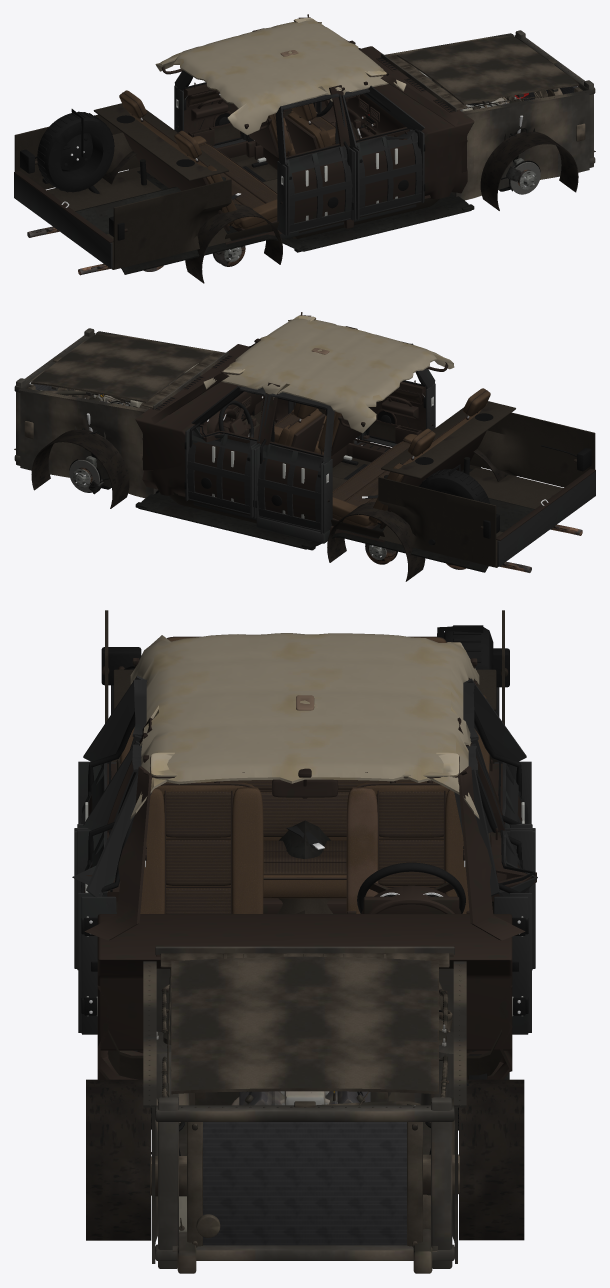
File: gaucho-v8_completo.glb
3 renders of one model, top to bottom at view 1: azimuth 30°, elevation 25°; view 2: azimuth 150°, elevation 25°; view 3: azimuth 270°, elevation 25°, orthographic. The views are drawn at different scales.
Visible parts, largest first — view 1: interior_portamalas_carpete, interior_forro_teto, engine_paralama_interno_dir, hood_manta, interior_banco_traseiro, under_assoalho, interior_portamalas_estepe, interior_painel, door_card_rr_chapa, door_card_fr_chapa, interior_portamalas_tampao, under_caixa_roda_fr (+18 smaller); view 2: interior_portamalas_carpete, interior_forro_teto, engine_paralama_interno_esq, hood_manta, interior_painel, interior_banco_traseiro, under_assoalho, door_card_rl_chapa, door_card_fl_chapa, interior_portamalas_tampao, under_caixa_roda_fl, door_card_rr (+20 smaller); view 3: interior_forro_teto, hood_manta, engine_radiador, interior_painel, engine_travessa, interior_banco_dianteiro_dir, interior_banco_dianteiro_esq, under_caixa_roda_fl, under_caixa_roda_fr, interior_banco_traseiro, interior_acabamento_colunas, engine_corta_fogo (+24 smaller).
Boxes of the visible parts, <box> form: interior_portamalas_carpete: <box>14,114,231,269</box>; interior_forro_teto: <box>155,20,406,135</box>; engine_paralama_interno_dir: <box>455,90,591,200</box>; hood_manta: <box>397,35,578,104</box>; interior_banco_traseiro: <box>119,90,277,231</box>; under_assoalho: <box>75,171,474,274</box>; interior_portamalas_estepe: <box>37,109,114,192</box>; interior_painel: <box>329,46,474,172</box>; door_card_rr_chapa: <box>284,146,353,235</box>; door_card_fr_chapa: <box>354,129,423,218</box>; interior_portamalas_tampao: <box>93,103,228,180</box>; under_caixa_roda_fr: <box>480,131,578,210</box>; interior_portamalas_carpete: <box>378,412,595,567</box>; interior_forro_teto: <box>203,318,454,433</box>; engine_paralama_interno_esq: <box>18,388,154,498</box>; hood_manta: <box>31,333,212,402</box>; interior_painel: <box>135,344,264,470</box>; interior_banco_traseiro: <box>332,388,490,529</box>; under_assoalho: <box>135,468,534,572</box>; door_card_rl_chapa: <box>256,444,325,533</box>; door_card_fl_chapa: <box>186,426,257,516</box>; interior_portamalas_tampao: <box>381,401,515,478</box>; under_caixa_roda_fl: <box>31,429,129,508</box>; door_card_rr: <box>369,380,425,443</box>; interior_forro_teto: <box>130,633,479,819</box>; hood_manta: <box>171,956,438,1094</box>; engine_radiador: <box>187,1105,422,1247</box>; interior_painel: <box>97,885,512,1050</box>; engine_travessa: <box>150,1091,459,1268</box>; interior_banco_dianteiro_dir: <box>140,781,263,913</box>; interior_banco_dianteiro_esq: <box>346,780,469,913</box>; under_caixa_roda_fl: <box>459,1079,524,1240</box>; under_caixa_roda_fr: <box>86,1079,151,1240</box>; interior_banco_traseiro: <box>120,636,489,913</box>; interior_acabamento_colunas: <box>84,717,525,940</box>; engine_corta_fogo: <box>155,946,454,1105</box>.
Size of what is drawn, in the model's own units: 4.43 by 1.37 by 1.76.
Materials: 53 (53 with a texture image).
